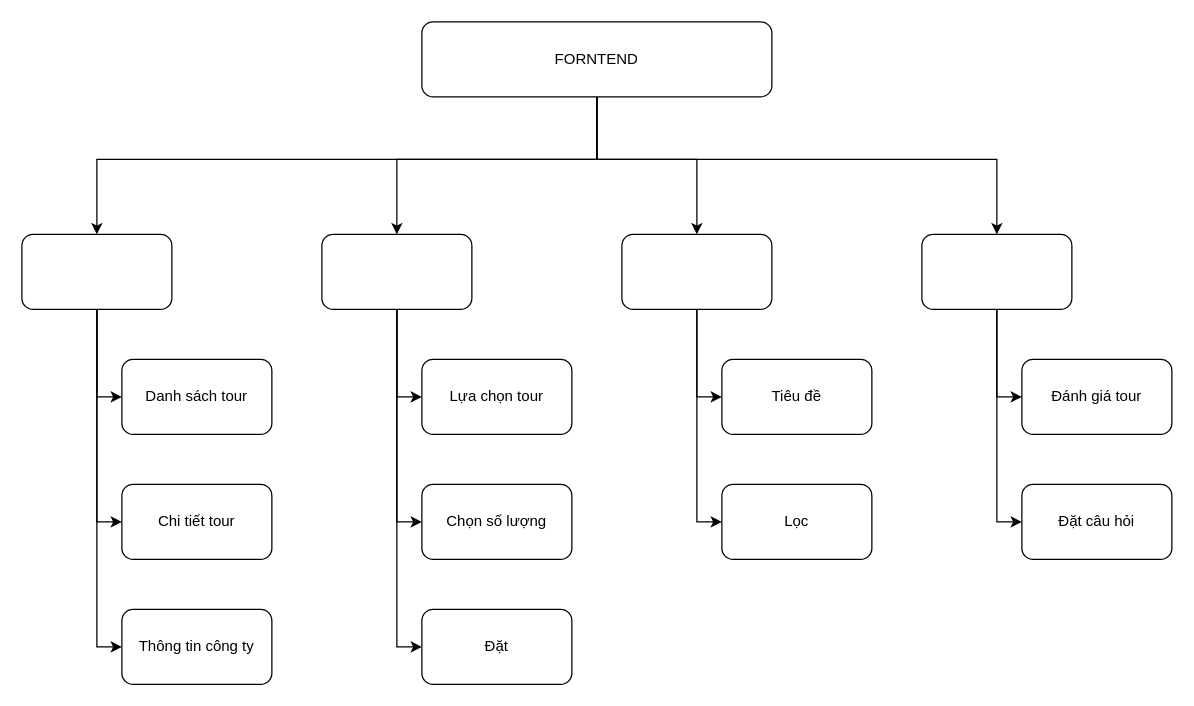
This 1194x706 diagram has some shape labels left out. Here are the shapes that lost their labels. From the top down, the box of each, then its label:
(21, 233, 172, 309): Xem thông tin
(321, 233, 472, 309): Đặt tour
(621, 233, 772, 309): Tìm kiếm
(921, 233, 1072, 309): Đánh giá
